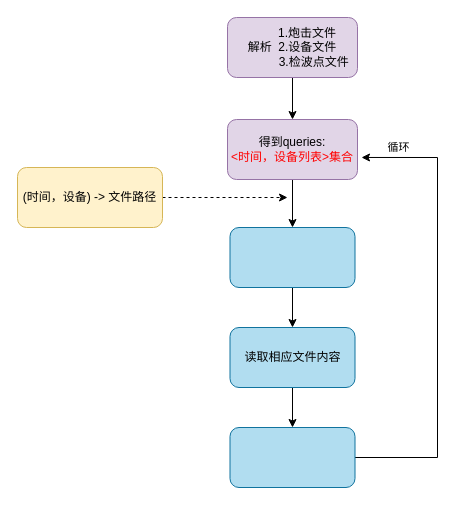
The diagram is 463 pixels wide and 505 high, and some of its shapes have lost their labels. The shapes that lost their labels are listed below. From the top down, each one's centre as x and y in pixels, then its label:
At pixel 292 257: "对每个 <时间，设备> 计算相应的 <文件，偏移量>".
At pixel 292 457: "追加写至炮集".
